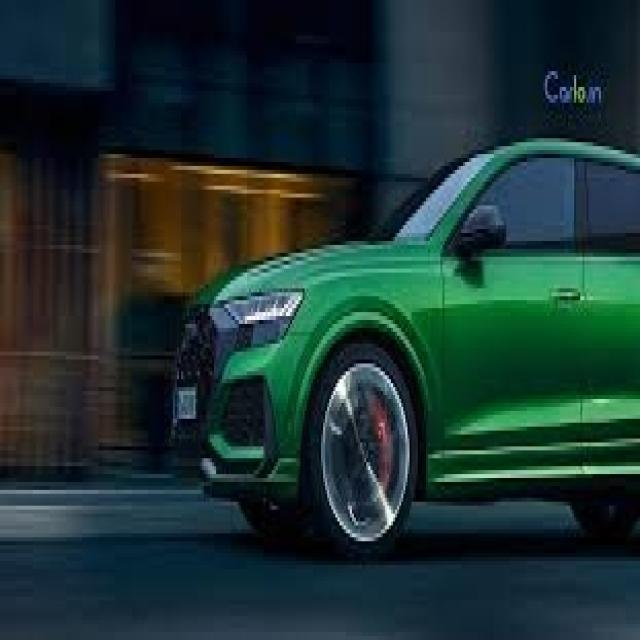blue: (175, 144, 640, 549)
